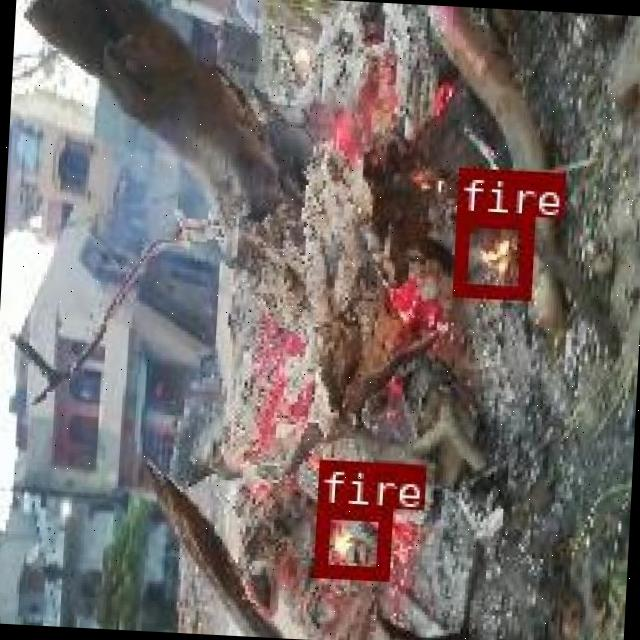fire: (450, 211, 530, 297), (310, 505, 390, 578)
